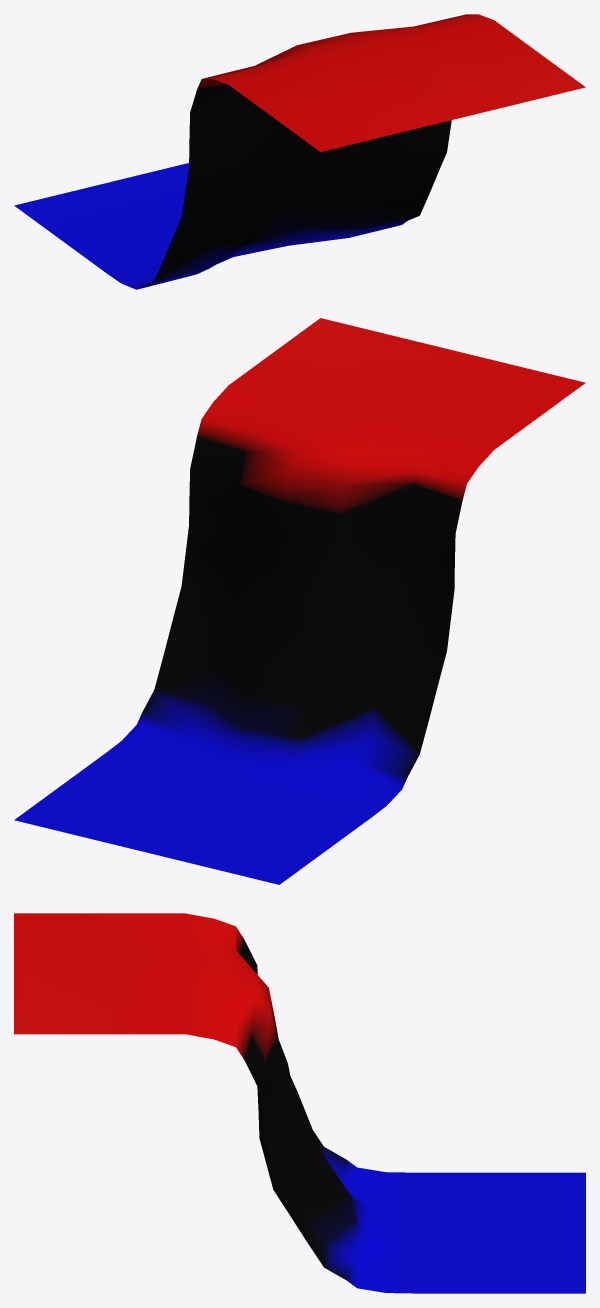
File: RiveCliff00B Background.fbx
3 renders of one model, top to bottom at view 1: azimuth 30°, elevation 25°; view 2: azimuth 150°, elevation 25°; view 3: azimuth 270°, elevation 25°, orthographic. The views are drawn at different scales.
Parts seen in each view (by area): view 1: RiveCliff00B Background; view 2: RiveCliff00B Background; view 3: RiveCliff00B Background.
Part boxes in pixels (x1=…): RiveCliff00B Background: x1=14, y1=14, x2=585, y2=289; RiveCliff00B Background: x1=14, y1=318, x2=585, y2=884; RiveCliff00B Background: x1=14, y1=913, x2=585, y2=1293.
Bounding box in the file's own units: 1 × 1 × 2.
